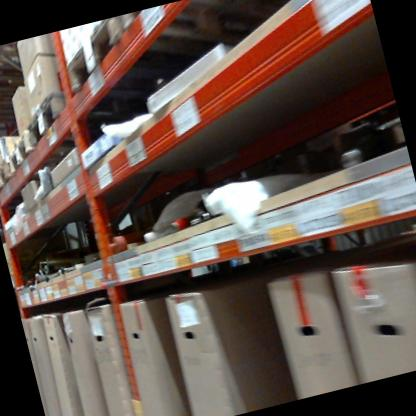pallet: (56, 0, 309, 117), (21, 71, 166, 172), (0, 110, 119, 186), (0, 144, 95, 210), (0, 34, 64, 102)
